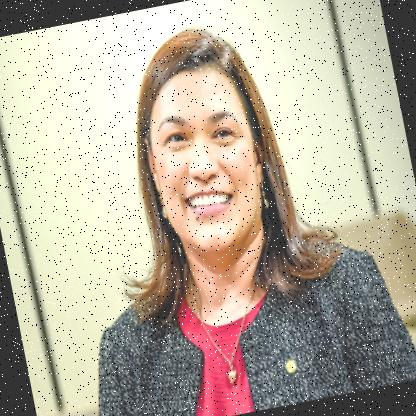sem_capacete: (102, 12, 302, 272)
sem_colete_refletivo: (61, 213, 415, 415)
